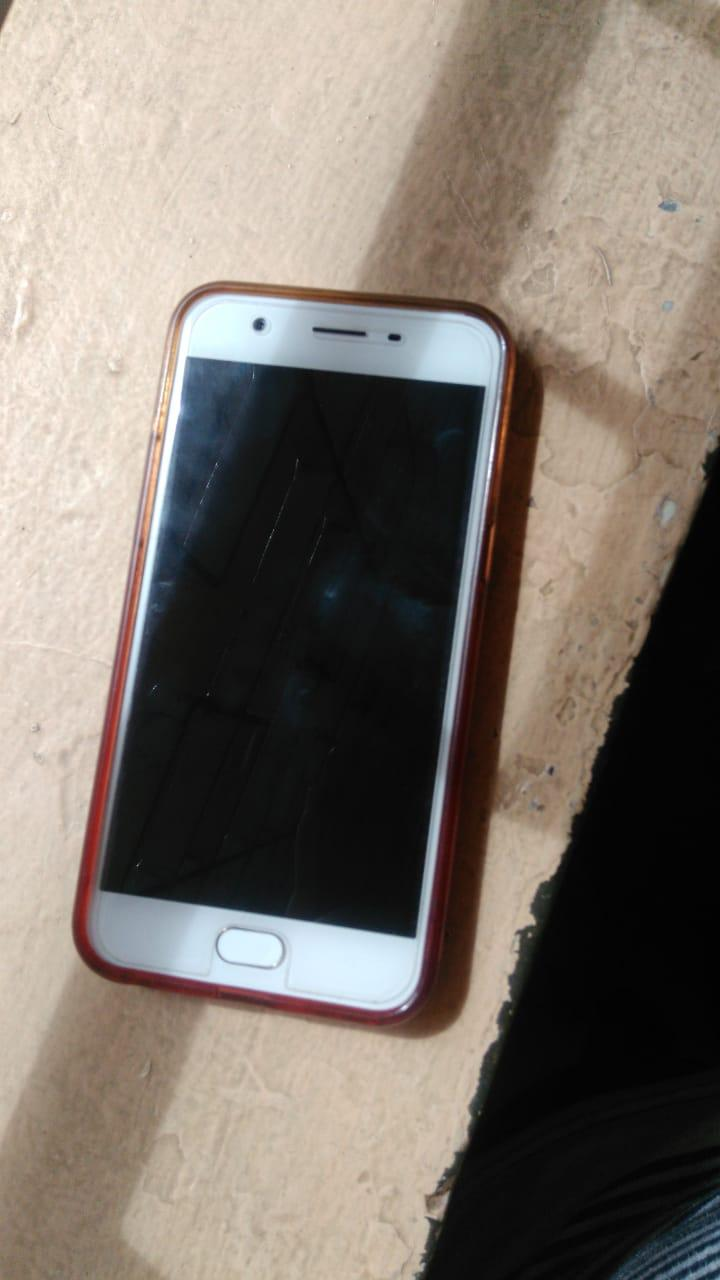Phone: (54, 265, 570, 1051)
